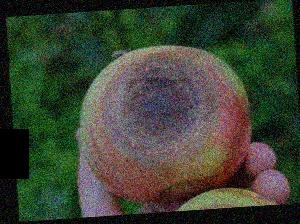rotten apple: (76, 37, 258, 203)
